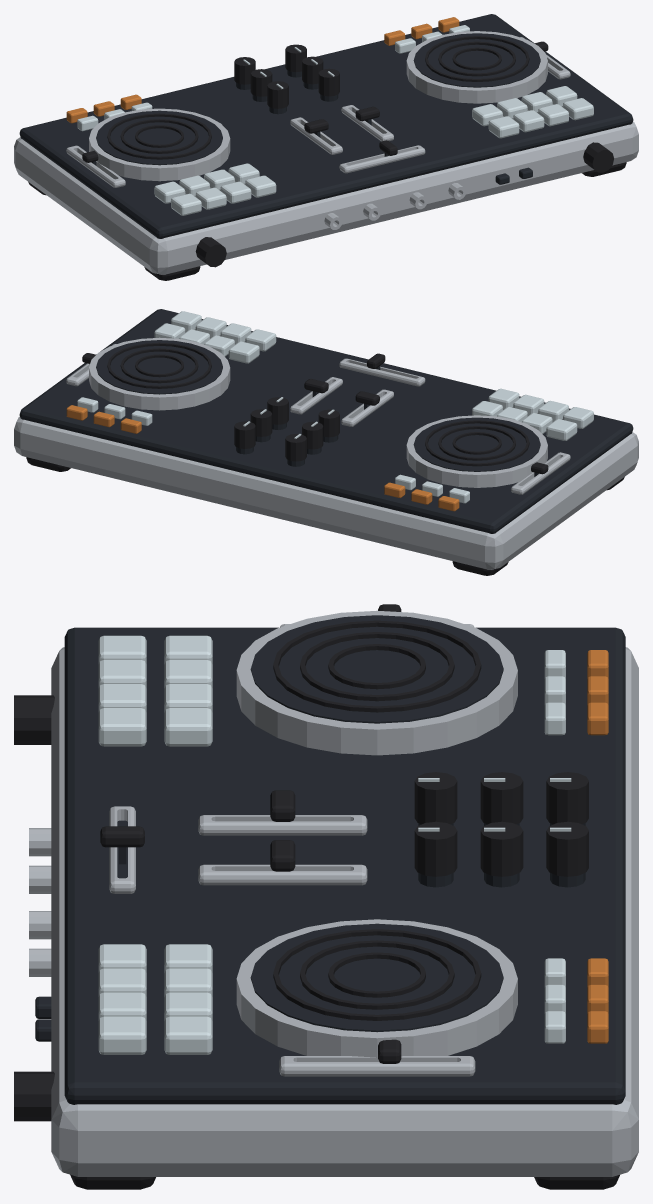
File: A-NEW-20261026-DJ-CONTROLLER-001_LOD2_R1.fbx
The picture shows the model from 3 angles, top to bottom: view 1: azimuth 30°, elevation 25°; view 2: azimuth 150°, elevation 25°; view 3: azimuth 270°, elevation 25°; orthographic projection. The views are drawn at different scales.
Visible parts, largest first — view 1: black control deck, controller base, jog central platter, jog central platter.001, jog silver rim.001, jog silver rim, crossfader surround, concentric jog grip.005, concentric jog grip.002, pitch slot surround, front projecting knob.001, front projecting knob (+28 smaller); view 2: black control deck, controller base, jog central platter, jog central platter.001, jog silver rim.001, jog silver rim, concentric jog grip.005, crossfader surround, concentric jog grip.002, pitch slot surround, concentric jog grip.001, concentric jog grip.004 (+22 smaller); view 3: black control deck, controller base, jog central platter.001, jog central platter, jog silver rim, jog silver rim.001, pitch slot surround.001, channel fader surround.001, channel fader surround, concentric jog grip.005, concentric jog grip.002, concentric jog grip.004 (+31 smaller).
Part boxes in pixels (left/top/right/bottom): black control deck: left=19, top=14, right=633, bottom=238; controller base: left=14, top=121, right=638, bottom=274; jog central platter: left=96, top=110, right=222, bottom=165; jog central platter.001: left=413, top=33, right=540, bottom=87; jog silver rim.001: left=406, top=31, right=547, bottom=103; jog silver rim: left=89, top=108, right=230, bottom=181; crossfader surround: left=339, top=145, right=425, bottom=173; concentric jog grip.005: left=425, top=36, right=529, bottom=81; concentric jog grip.002: left=107, top=113, right=211, bottom=159; pitch slot surround: left=66, top=145, right=125, bottom=187; front projecting knob.001: left=583, top=142, right=614, bottom=172; front projecting knob: left=195, top=237, right=226, bottom=267; black control deck: left=19, top=309, right=633, bottom=533; controller base: left=14, top=416, right=638, bottom=569; jog central platter: left=413, top=417, right=540, bottom=471; jog central platter.001: left=96, top=340, right=222, bottom=394; jog silver rim.001: left=89, top=337, right=230, bottom=410; jog silver rim: left=406, top=415, right=547, bottom=487; concentric jog grip.005: left=107, top=342, right=211, bottom=388; crossfader surround: left=339, top=358, right=425, bottom=386; concentric jog grip.002: left=425, top=420, right=529, bottom=466; pitch slot surround: left=511, top=452, right=570, bottom=494; concentric jog grip.001: left=438, top=426, right=515, bottom=460; concentric jog grip.004: left=120, top=348, right=198, bottom=383; black control deck: left=64, top=627, right=625, bottom=1104; controller base: left=51, top=647, right=638, bottom=1176; jog central platter.001: left=250, top=923, right=503, bottom=1032; jog central platter: left=250, top=615, right=503, bottom=723; jog silver rim: left=236, top=610, right=517, bottom=755; jog silver rim.001: left=236, top=919, right=517, bottom=1057; pitch slot surround.001: left=279, top=1056, right=475, bottom=1076; channel fader surround.001: left=198, top=864, right=367, bottom=885; channel fader surround: left=198, top=815, right=367, bottom=835; concentric jog grip.005: left=273, top=929, right=481, bottom=1020; concentric jog grip.002: left=273, top=620, right=481, bottom=712; concentric jog grip.004: left=300, top=940, right=454, bottom=1009.
Bounding box in the file's own units: 63 × 10.25 × 35.1.
